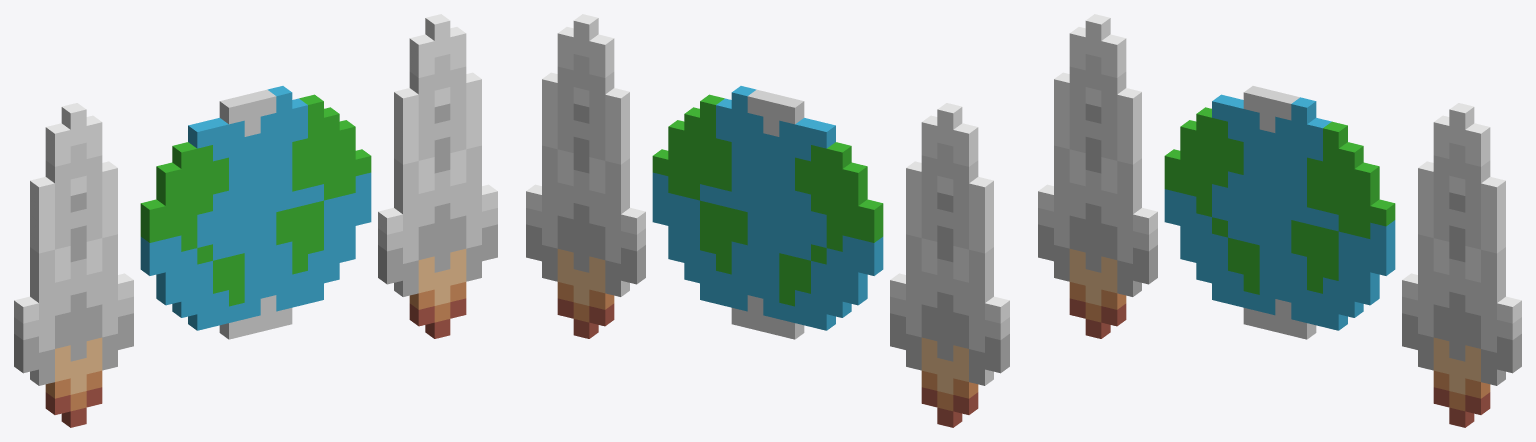
The model's file is Shelter 2.fbx.
3 views of the same model, side by side, from view 1: azimuth 30°, elevation 25°; view 2: azimuth 150°, elevation 25°; view 3: azimuth 330°, elevation 25° (orthographic).
Parts seen in each view (by area): view 1: Shelter 1.1; view 2: Shelter 1.1; view 3: Shelter 1.1.
Part boxes in pixels (bbox=[...]): Shelter 1.1: bbox=[14, 14, 497, 427]; Shelter 1.1: bbox=[526, 14, 1009, 427]; Shelter 1.1: bbox=[1038, 14, 1521, 427].
Size of the model in its own units: 30 by 19 by 1.
